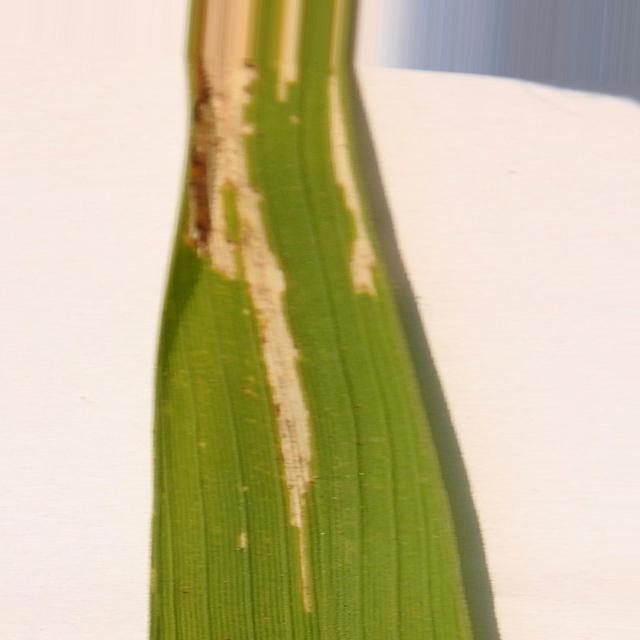Bacterial_Leaf_Blight: (186, 0, 312, 612), (328, 16, 376, 296), (276, 0, 304, 101)
